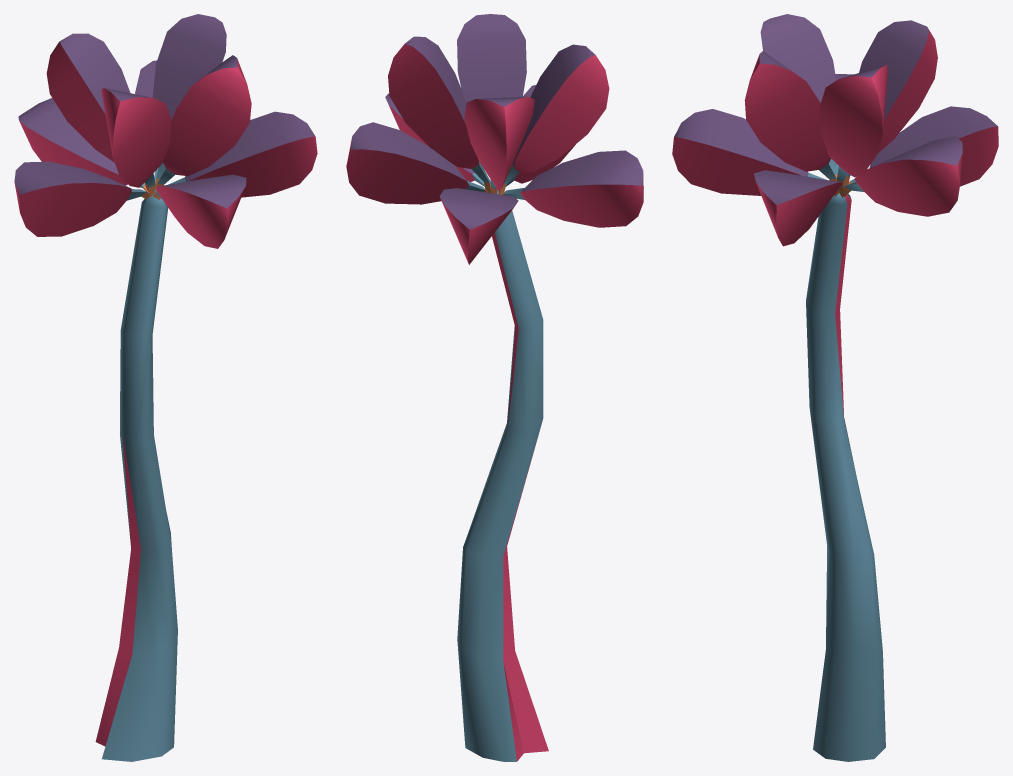
File: Tree_1.fbx
The picture shows the model from 3 angles, left to right: view 1: azimuth 30°, elevation 25°; view 2: azimuth 150°, elevation 25°; view 3: azimuth 270°, elevation 25°; orthographic projection. The views are drawn at different scales.
Parts seen in each view (by area): view 1: Tree_1; view 2: Tree_1; view 3: Tree_1.
Part boxes in pixels (left/top/right/bottom): Tree_1: left=14, top=14, right=317, bottom=761; Tree_1: left=346, top=14, right=643, bottom=761; Tree_1: left=672, top=14, right=998, bottom=761.
Bounding box in the file's own units: 316 × 771 × 318.
